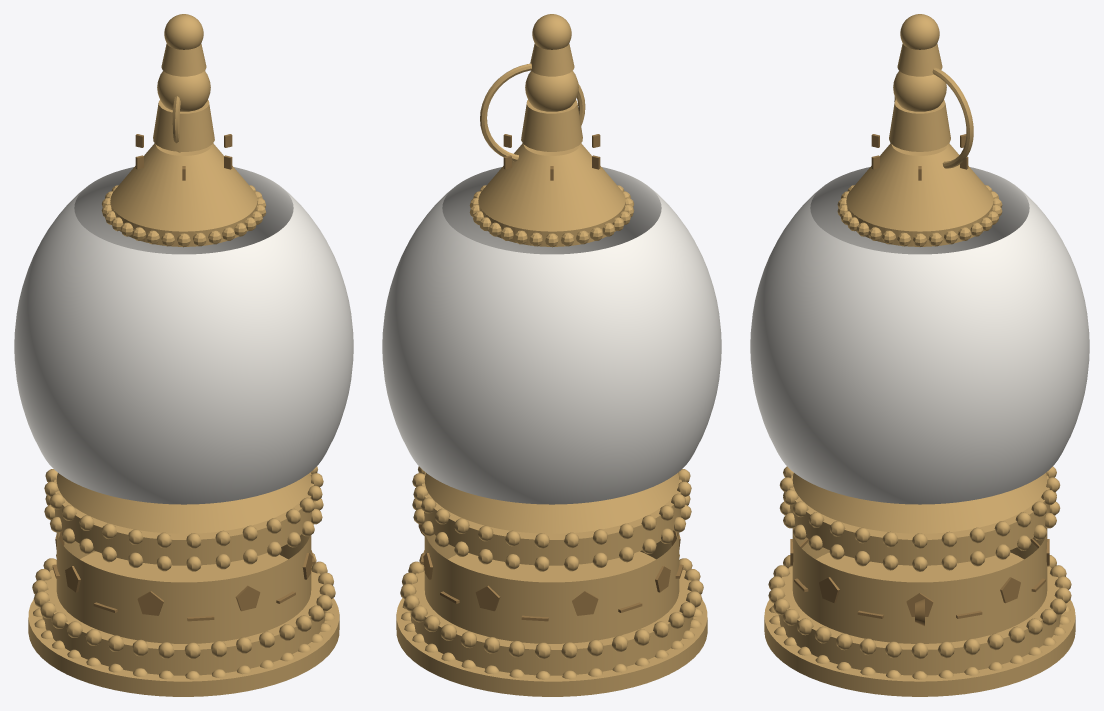
File: desk_lantern.glb
The picture shows the model from 3 angles, left to right: view 1: azimuth 30°, elevation 25°; view 2: azimuth 150°, elevation 25°; view 3: azimuth 270°, elevation 25°; orthographic projection.
Parts seen in each view (by area): view 1: Glass_Body, Base_Band, Base_Tier1, Cap_Bell, Base_Disk, Base_Rim, Base_Tier3, Cap_Bulb1, Cap_Sphere1, Cap_Sphere2, Cap_Bulb2, Cap_Ring; view 2: Glass_Body, Base_Band, Base_Tier1, Cap_Bell, Base_Disk, Base_Rim, Base_Tier3, Cap_Bulb1, Cap_Sphere1, Cap_Handle, Cap_Sphere2, Cap_Bulb2 (+1 smaller); view 3: Glass_Body, Base_Band, Base_Tier1, Cap_Bell, Base_Disk, Base_Rim, Base_Tier3, Cap_Bulb1, Cap_Sphere1, Cap_Sphere2, Cap_Bulb2, Cap_Handle (+1 smaller).
Boxes of the visible parts, x1,y1,x2,y2 form: Glass_Body: (14,167,353,504); Base_Band: (56,532,311,643); Base_Tier1: (42,551,325,675); Cap_Bell: (110,143,257,231); Base_Disk: (28,598,339,696); Base_Rim: (56,473,311,533); Base_Tier3: (54,472,313,565); Cap_Bulb1: (153,100,214,151); Cap_Sphere1: (157,71,210,111); Cap_Sphere2: (164,14,203,49); Cap_Bulb2: (161,44,206,76); Cap_Ring: (110,199,257,246); Glass_Body: (382,167,721,504); Base_Band: (424,532,679,643); Base_Tier1: (410,551,693,675); Cap_Bell: (478,143,625,231); Base_Disk: (396,598,707,696); Base_Rim: (424,473,679,533); Base_Tier3: (422,472,681,565); Cap_Bulb1: (521,100,582,151); Cap_Sphere1: (525,71,578,111); Cap_Handle: (480,63,585,161); Cap_Sphere2: (532,14,571,49); Cap_Bulb2: (530,44,574,76); Glass_Body: (750,167,1089,504); Base_Band: (792,526,1047,643); Base_Tier1: (778,552,1061,675); Cap_Bell: (846,143,993,231); Base_Disk: (764,600,1075,696); Base_Rim: (792,473,1047,533); Base_Tier3: (790,475,1049,565); Cap_Bulb1: (889,100,950,151); Cap_Sphere1: (893,71,946,111); Cap_Sphere2: (900,14,939,49); Cap_Bulb2: (897,44,942,76); Cap_Handle: (894,67,973,168).
Size of the model in its own units: 0.12 by 0.24 by 0.12.
